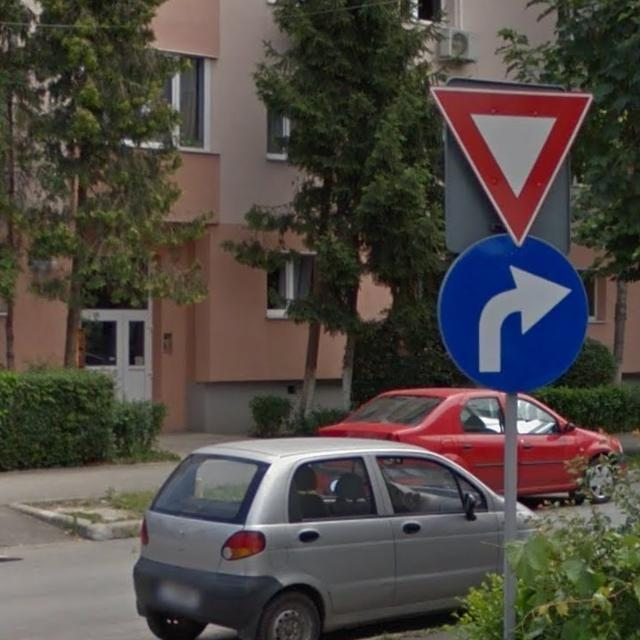prio_give_way: (422, 82, 592, 244)
